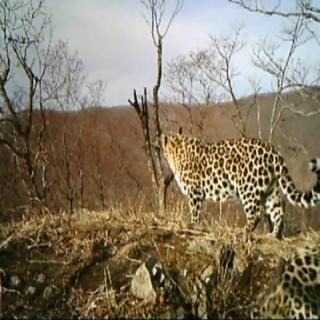Leopard: (153, 106, 310, 229)
